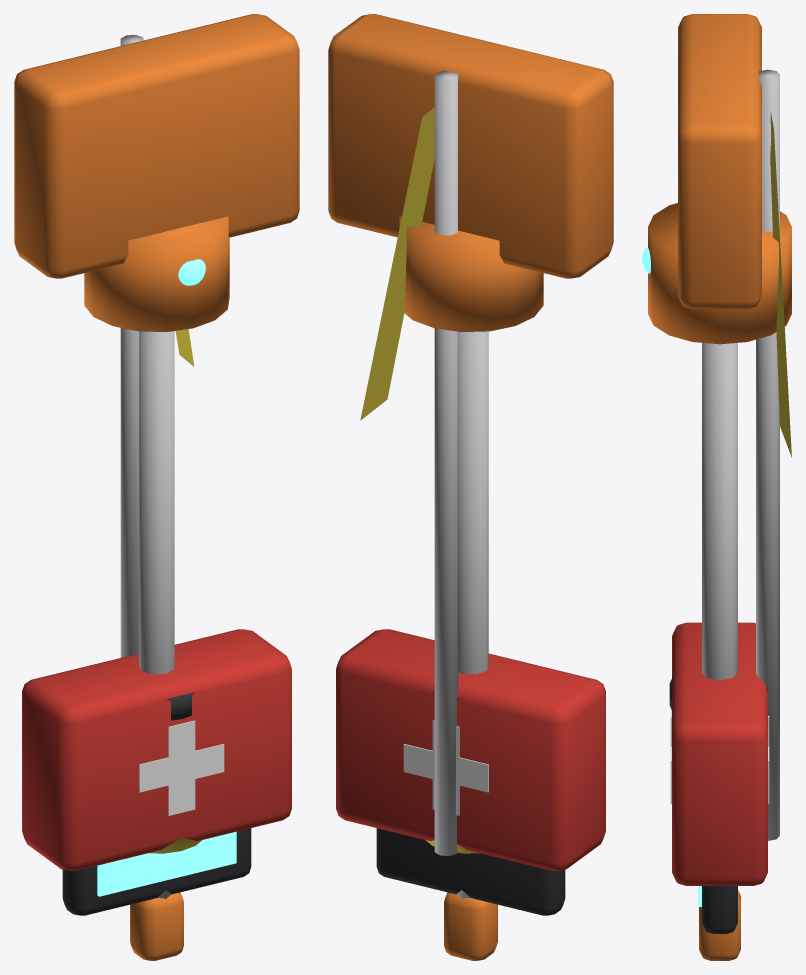
The model's file is items.glb.
3 views of the same model, side by side, from view 1: azimuth 30°, elevation 25°; view 2: azimuth 150°, elevation 25°; view 3: azimuth 270°, elevation 25° (orthographic).
Visible parts, largest first — view 1: memo, aidkit, sonar, scanner, decoy; view 2: memo, aidkit, sonar, scanner; view 3: memo, aidkit, sonar, scanner.
Part boxes in pixels (x1,y1,x2,y2): memo: [14, 14, 299, 657]; aidkit: [22, 629, 291, 870]; sonar: [84, 216, 229, 899]; scanner: [62, 828, 251, 960]; decoy: [148, 692, 201, 853]; memo: [328, 14, 613, 855]; aidkit: [336, 629, 605, 870]; sonar: [399, 216, 543, 899]; scanner: [376, 828, 565, 960]; memo: [678, 14, 791, 840]; aidkit: [670, 622, 769, 885]; sonar: [642, 203, 791, 680]; scanner: [698, 886, 740, 960].
Bounding box in the file's own units: 0.24 × 0.815 × 0.125.
